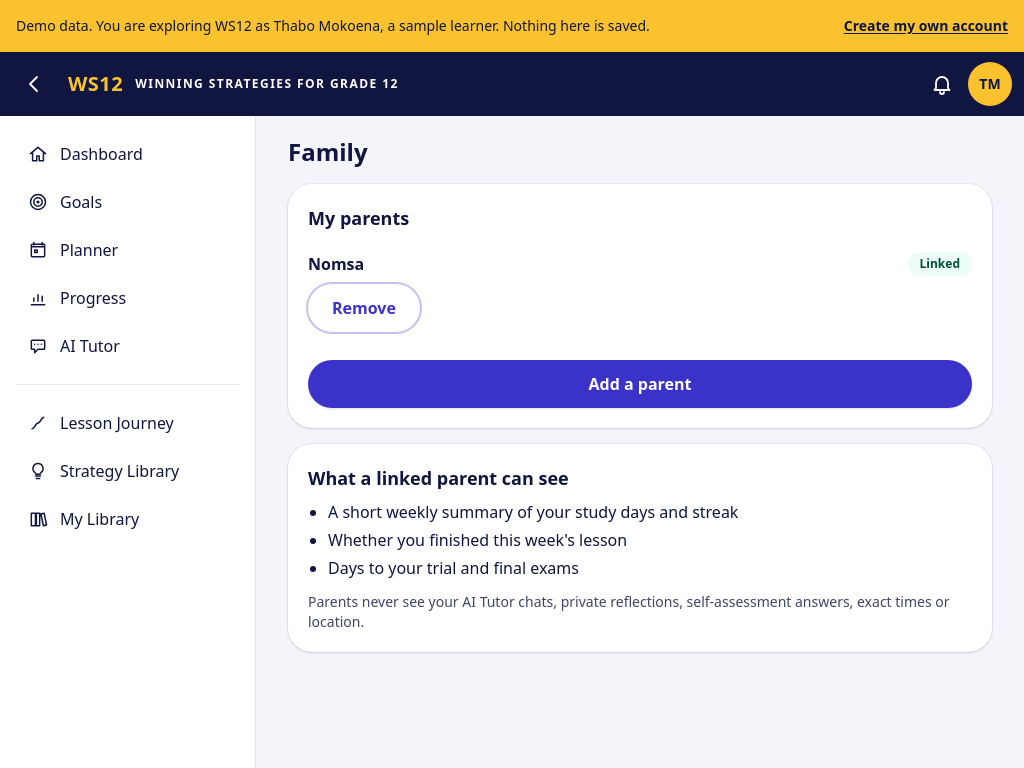
Test: Family for a learner › shows a linked parent from the demo and removes the link after a confirm
The image size is (1024, 768).
expect the text "Nomsa" is shown: met, box [308,252,364,276]
expect the text "Linked" is shown: met, box [908,252,972,276]
Step 1. Click the button with aria-label "Remove: Nomsa" → (364, 308), box [308,284,420,332]
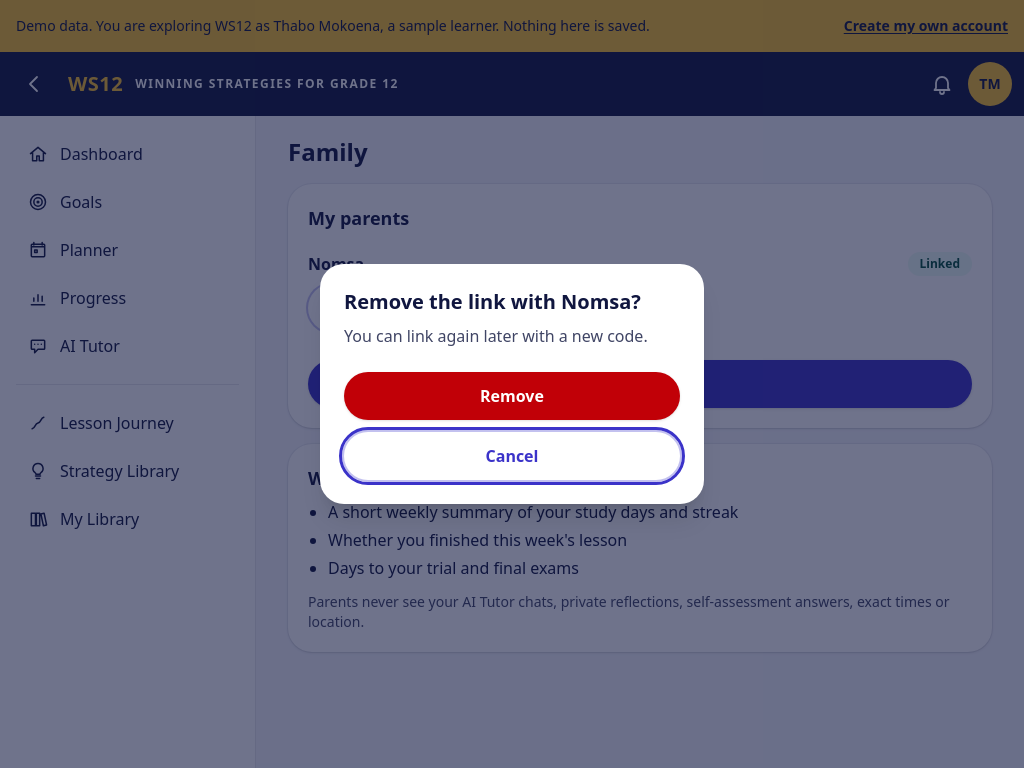
Step 2. Click the button "Remove" → (512, 396), box [344,372,680,420]
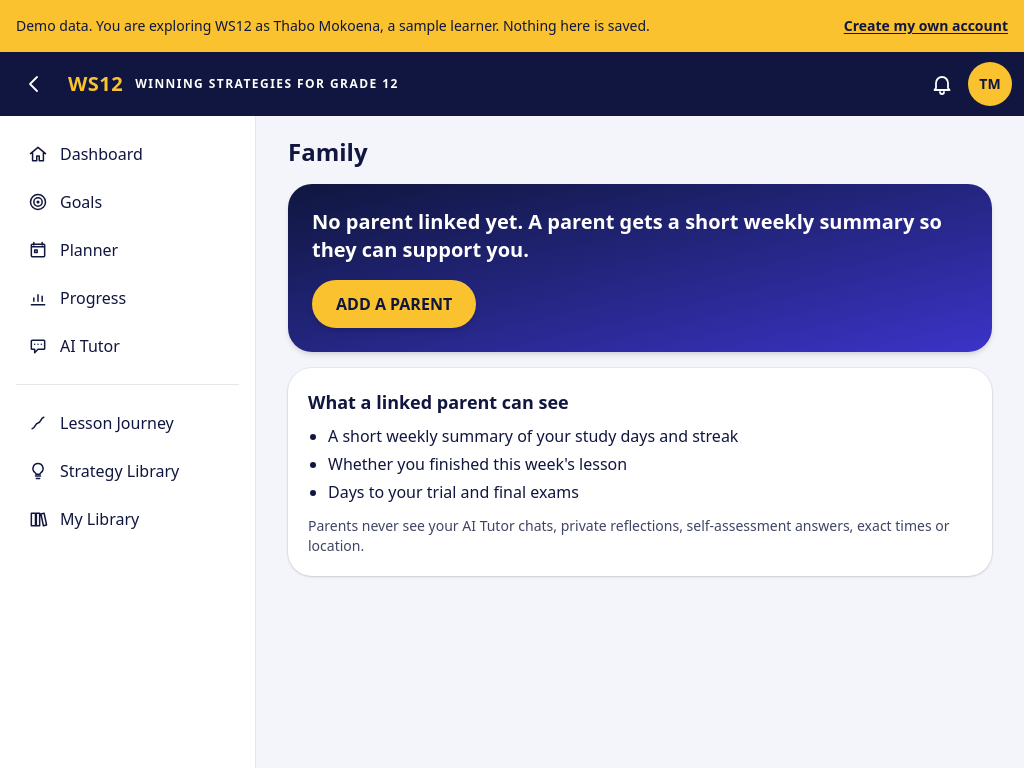
expect the heading "No parent linked yet" is shown: met, box [312,208,968,264]
